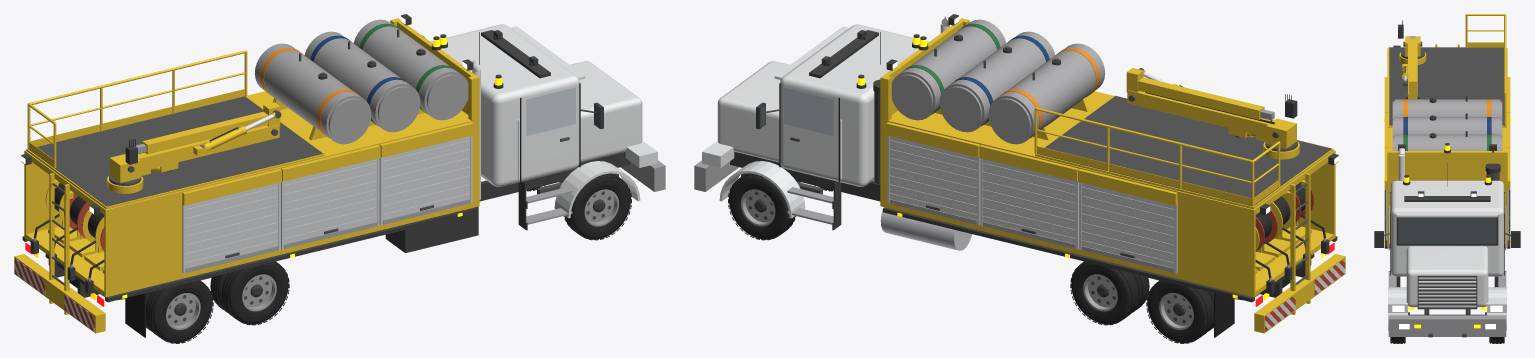
File: service_truck.glb
3 views of the same model, side by side, from view 1: azimuth 30°, elevation 25°; view 2: azimuth 150°, elevation 25°; view 3: azimuth 270°, elevation 25° (orthographic). The views are drawn at different scales.
Parts seen in each view (by area): view 1: body, cab, door_right_1_slide, door_right_2_slide, door_right_3_slide, chassis, wheel_rear_1_right_spin, wheel_rear_2_right_spin, wheel_front_right_spin, crane_boom_tilt, crane_jib_tilt, crane_rotate (+2 smaller); view 2: body, cab, door_left_1_slide, door_left_2_slide, chassis, door_left_3_slide, wheel_rear_1_left_spin, wheel_rear_2_left_spin, wheel_front_left_spin, crane_boom_tilt, crane_jib_tilt, crane_rotate (+2 smaller); view 3: body, cab, chassis, crane_jib_tilt, crane_rotate, crane_boom_tilt.
Part boxes in pixels (left/top/right/bottom): body: left=14, top=14, right=479, bottom=333; cab: left=431, top=24, right=657, bottom=230; door_right_1_slide: left=185, top=183, right=278, bottom=272; door_right_2_slide: left=284, top=159, right=376, bottom=248; door_right_3_slide: left=383, top=136, right=469, bottom=224; chassis: left=54, top=35, right=665, bottom=337; wheel_rear_1_right_spin: left=210, top=261, right=289, bottom=325; wheel_rear_2_right_spin: left=146, top=280, right=213, bottom=343; wheel_front_right_spin: left=563, top=173, right=631, bottom=240; crane_boom_tilt: left=123, top=124, right=279, bottom=172; crane_jib_tilt: left=135, top=102, right=280, bottom=154; crane_rotate: left=109, top=138, right=150, bottom=185; body: left=880, top=14, right=1345, bottom=333; cab: left=702, top=24, right=928, bottom=230; door_left_1_slide: left=1081, top=183, right=1174, bottom=272; door_left_2_slide: left=983, top=159, right=1075, bottom=248; chassis: left=694, top=15, right=1305, bottom=337; door_left_3_slide: left=890, top=136, right=976, bottom=224; wheel_rear_1_left_spin: left=1070, top=261, right=1149, bottom=325; wheel_rear_2_left_spin: left=1146, top=280, right=1213, bottom=343; wheel_front_left_spin: left=728, top=173, right=796, bottom=240; crane_boom_tilt: left=1127, top=90, right=1290, bottom=138; crane_jib_tilt: left=1126, top=68, right=1274, bottom=121; crane_rotate: left=1256, top=94, right=1297, bottom=151; body: left=1384, top=14, right=1510, bottom=248; cab: left=1374, top=163, right=1520, bottom=330; chassis: left=1388, top=148, right=1506, bottom=337; crane_jib_tilt: left=1408, top=36, right=1417, bottom=96; crane_rotate: left=1398, top=20, right=1424, bottom=58; crane_boom_tilt: left=1402, top=43, right=1419, bottom=99.
Bounding box in the file's own units: 10.2 × 3.56 × 3.04.
21 materials, 21 textured.
